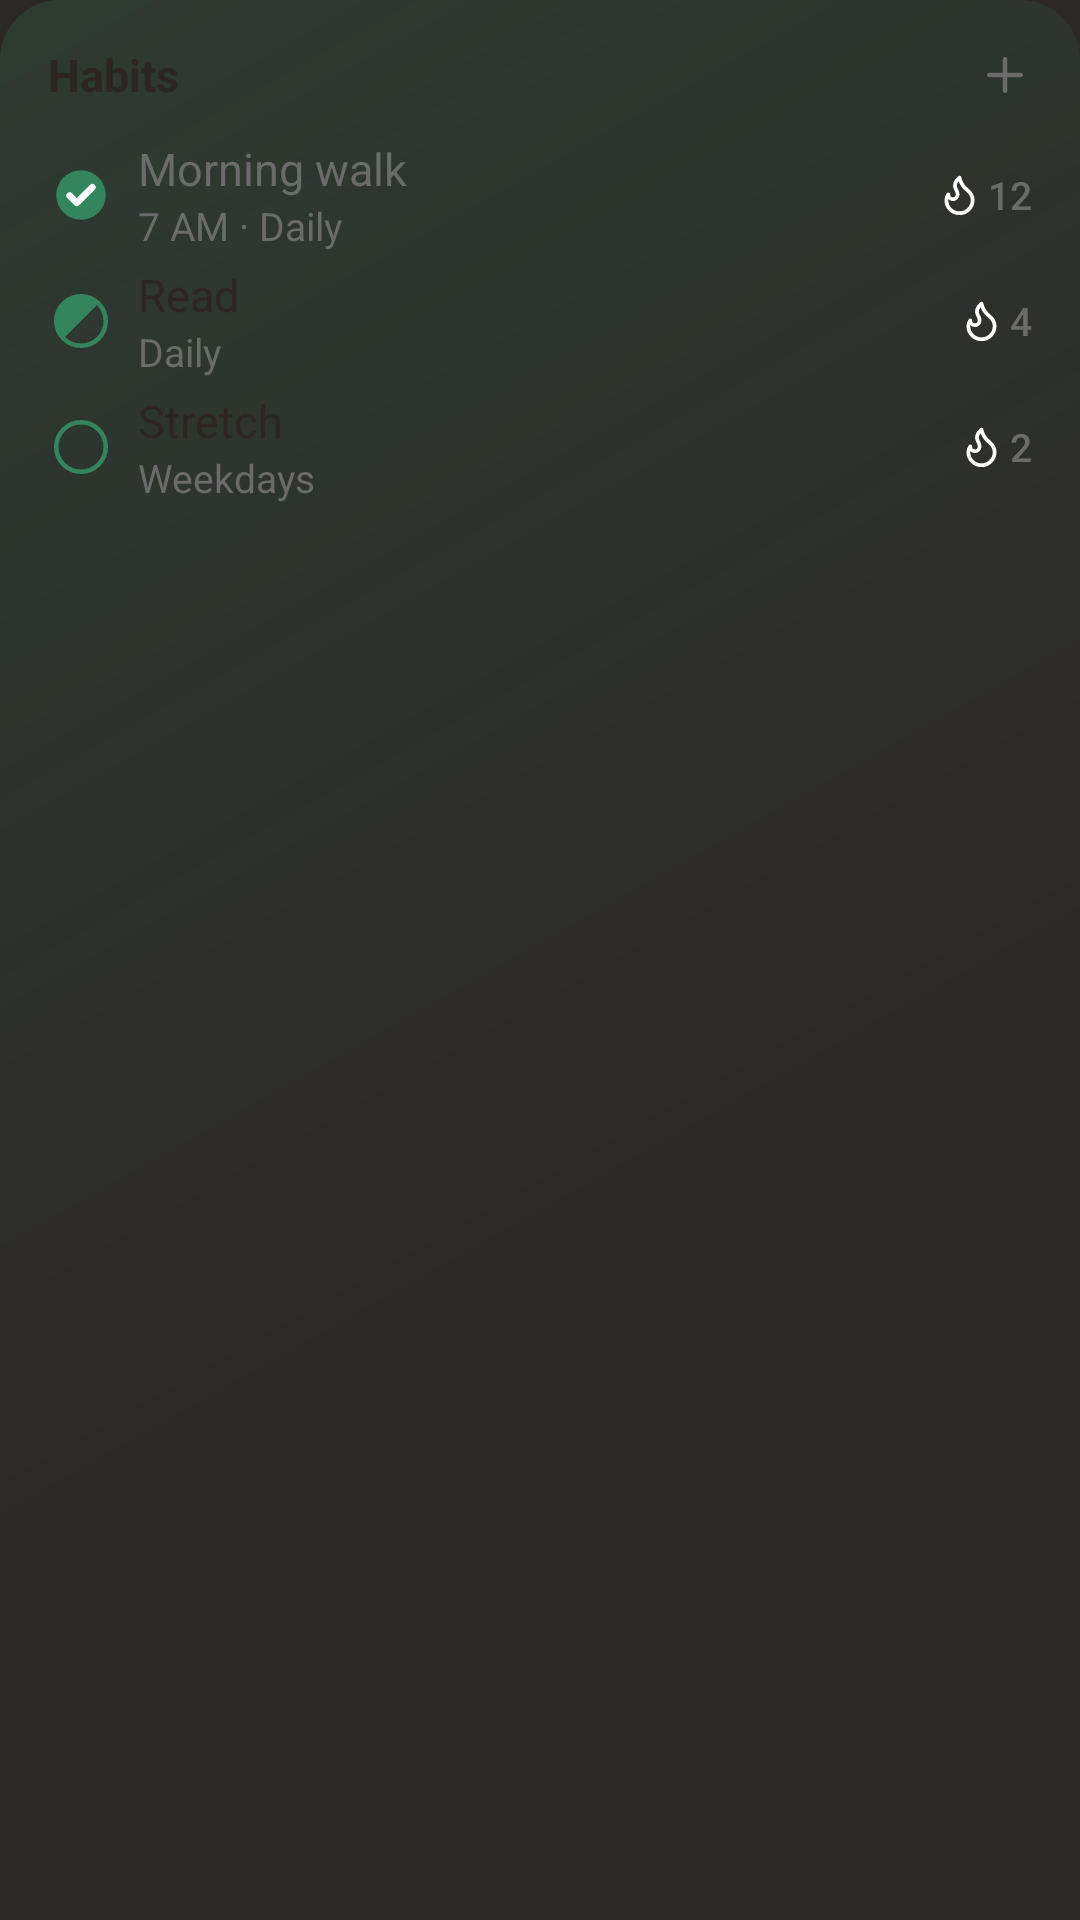

Locate icon controls on the screen. Image size 1080x1920, boxes as [x1, y1, x2, y2].
flame: [944, 175, 975, 215], [966, 301, 997, 341], [966, 427, 997, 467]
mark circle: [54, 420, 108, 474]
mark circle half: [54, 294, 108, 348]
plus: [987, 57, 1023, 93]
